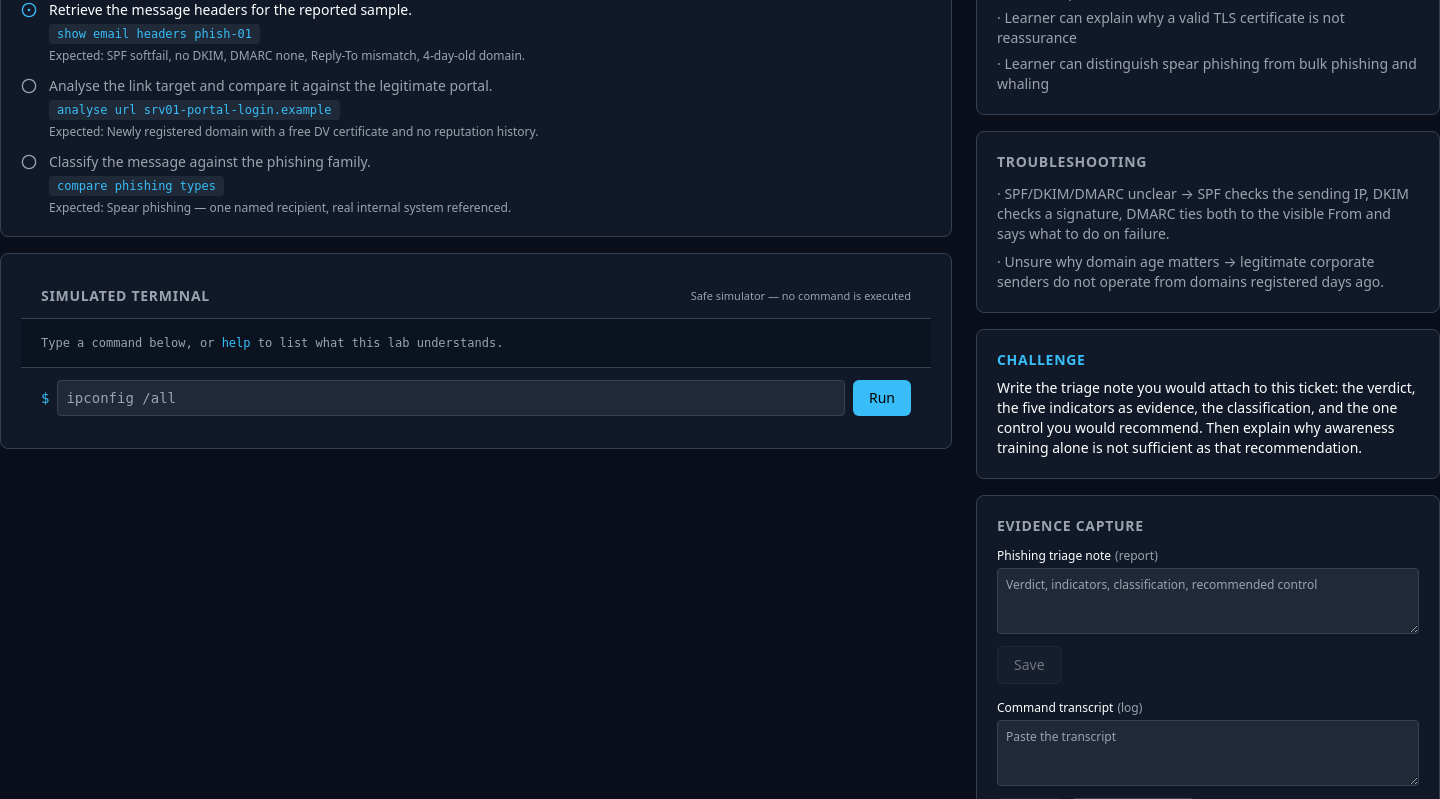
Scenario: Phase 3 labs run end to end › surfaces the five phishing indicators in the analysis lab
(page scrolled)
Type "show email headers phish-01" into the field named "Simulated command input" at (451, 398), box [57,380,845,416]
Then press Enter
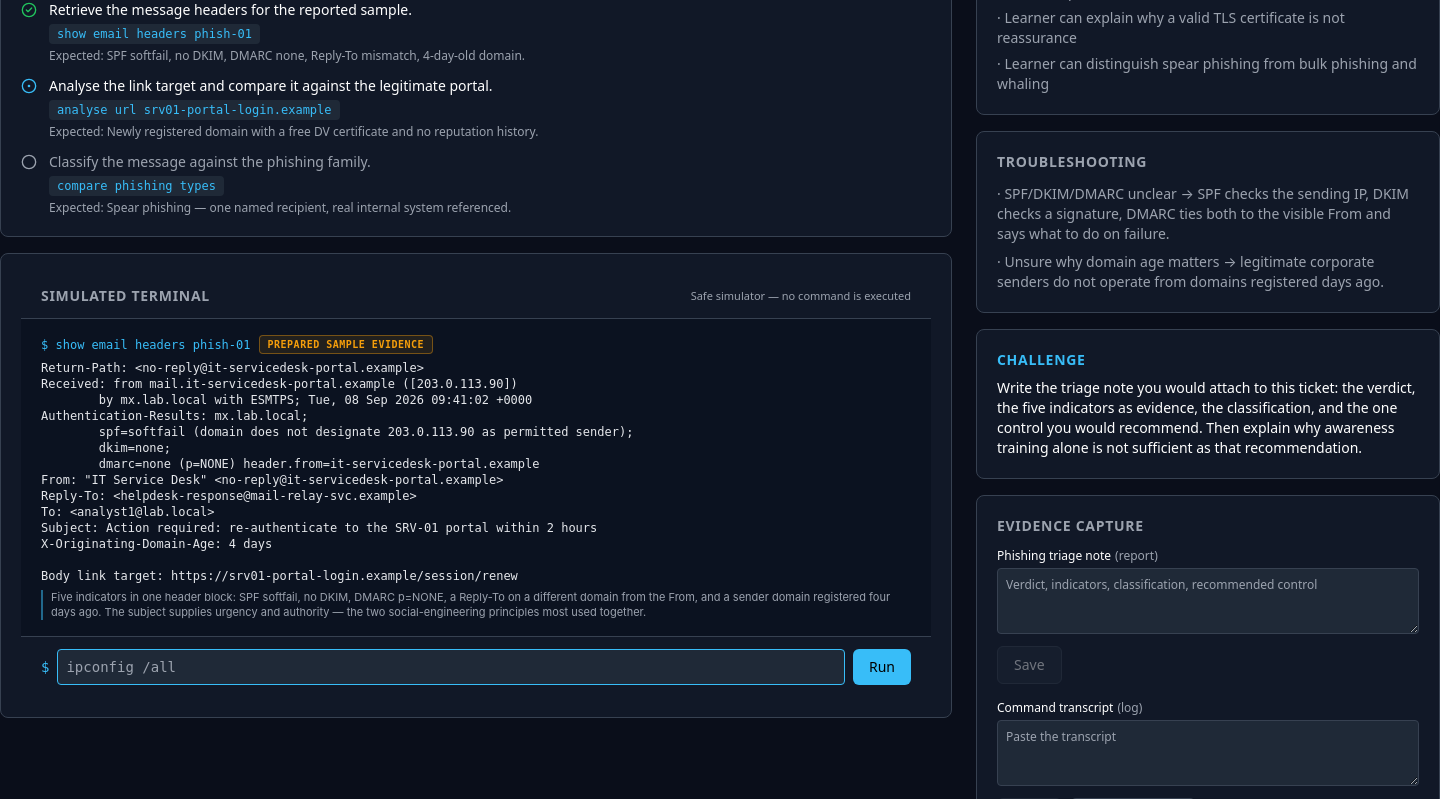
Expected: the text "spf=softfail" is shown, [41,361,633,583]
Expected: the text "Prepared sample evidence" is shown, [258,335,433,354]
